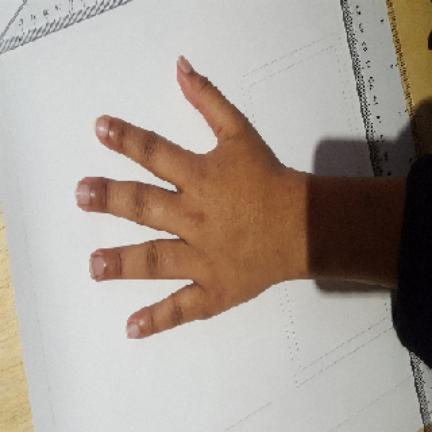Nail: (75, 182, 89, 205), (91, 256, 106, 276), (95, 117, 109, 136), (177, 57, 192, 73), (127, 323, 141, 338)
